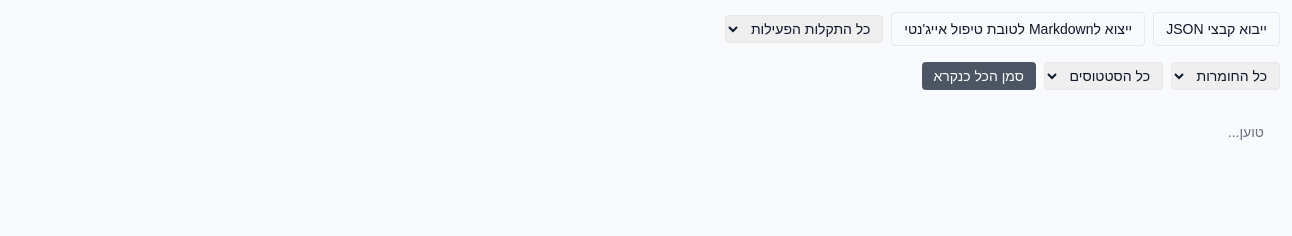
it: BugReportsContent › shows a translated inline error when the export download fails
This screenshot has width=1292, height=236.
Click the button "ייצוא לMarkdown לטובת טיפול אייג'נטי" at (1018, 29), box [891, 12, 1145, 46]
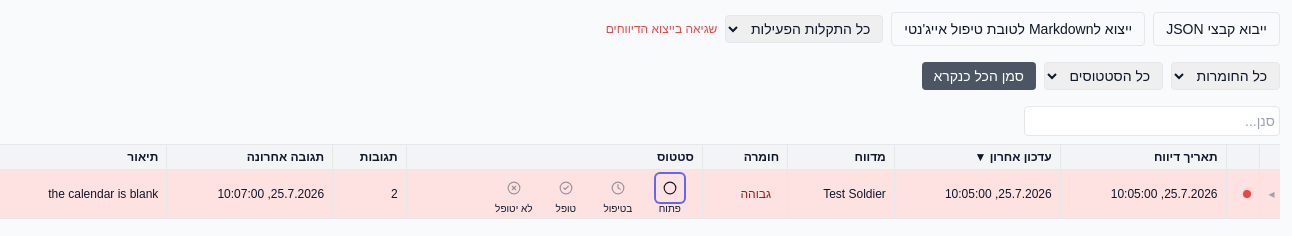
Check: the text "שגיאה בייצוא הדיווחים" is shown, box [606, 21, 717, 37]
Check: the text with test id "bug-report-export-error" reads "שגיאה בייצוא הדיווחים", box [606, 22, 717, 36]
